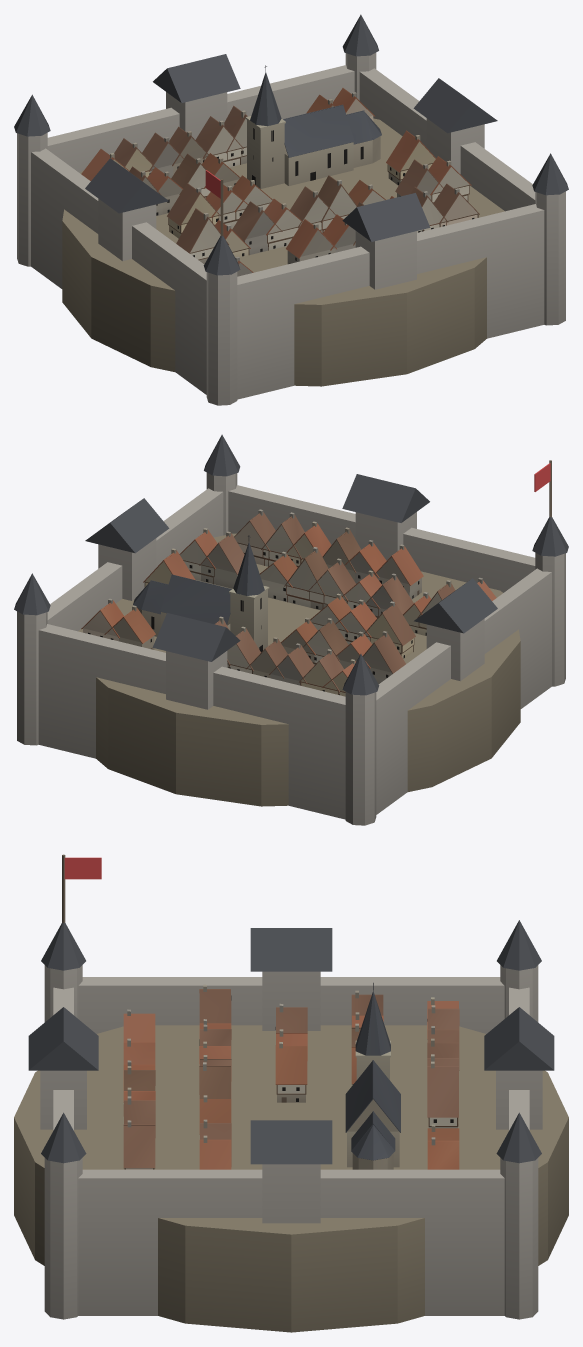
Rendered from town_b.glb.
3 renders of one model, top to bottom at view 1: azimuth 30°, elevation 25°; view 2: azimuth 150°, elevation 25°; view 3: azimuth 270°, elevation 25°, orthographic. The views are drawn at different scales.
Visible parts, largest first — view 1: town_b; view 2: town_b; view 3: town_b.
Part boxes in pixels (<box>): town_b: <box>14,14,568,405</box>; town_b: <box>14,434,568,825</box>; town_b: <box>14,854,568,1332</box>.
Bounding box in the file's own units: 1.9 × 1.02 × 1.9.
